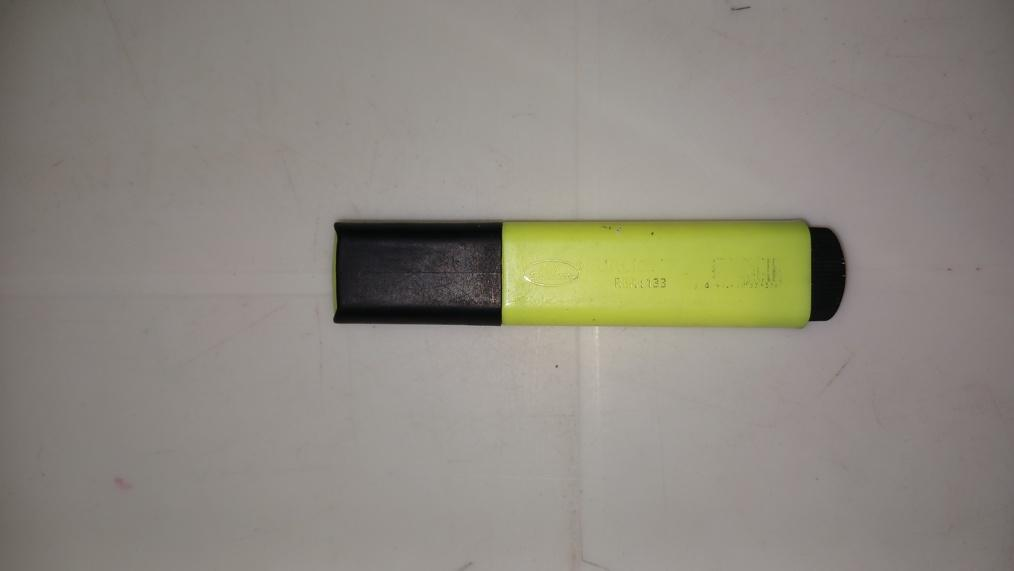Highlighter: (331, 219, 847, 333)
